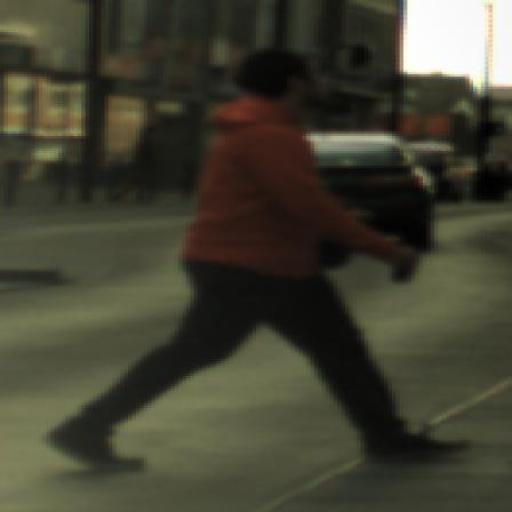person: (164, 60, 454, 479)
